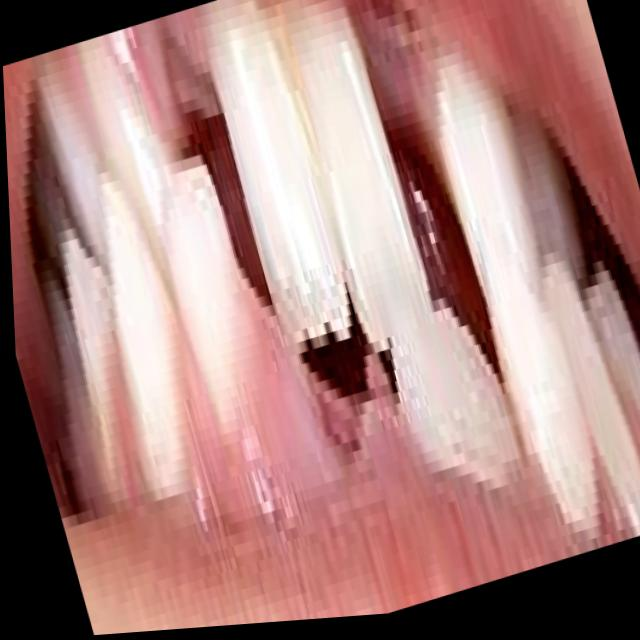hypodontia: (354, 8, 500, 383), (146, 45, 301, 342), (250, 284, 427, 477)
